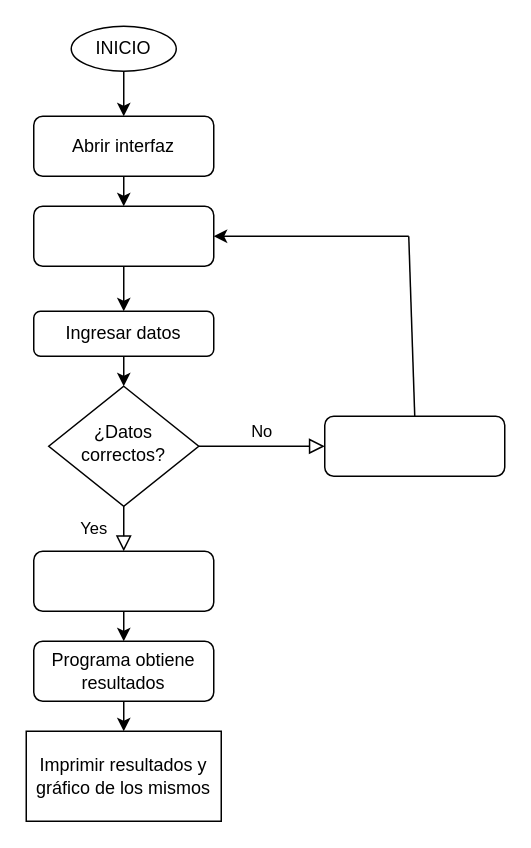
The diagram is 531 pixels wide and 848 high, and some of its shapes have lost their labels. The centre of each missing label's shape, as x and y in pixels:
"Enviar los datos recibidos al program" belongs at (x=123, y=580).
"Ingresar ruta de audios" belongs at (x=123, y=235).
"Mostrar mensaje de error" belongs at (x=414, y=445).
